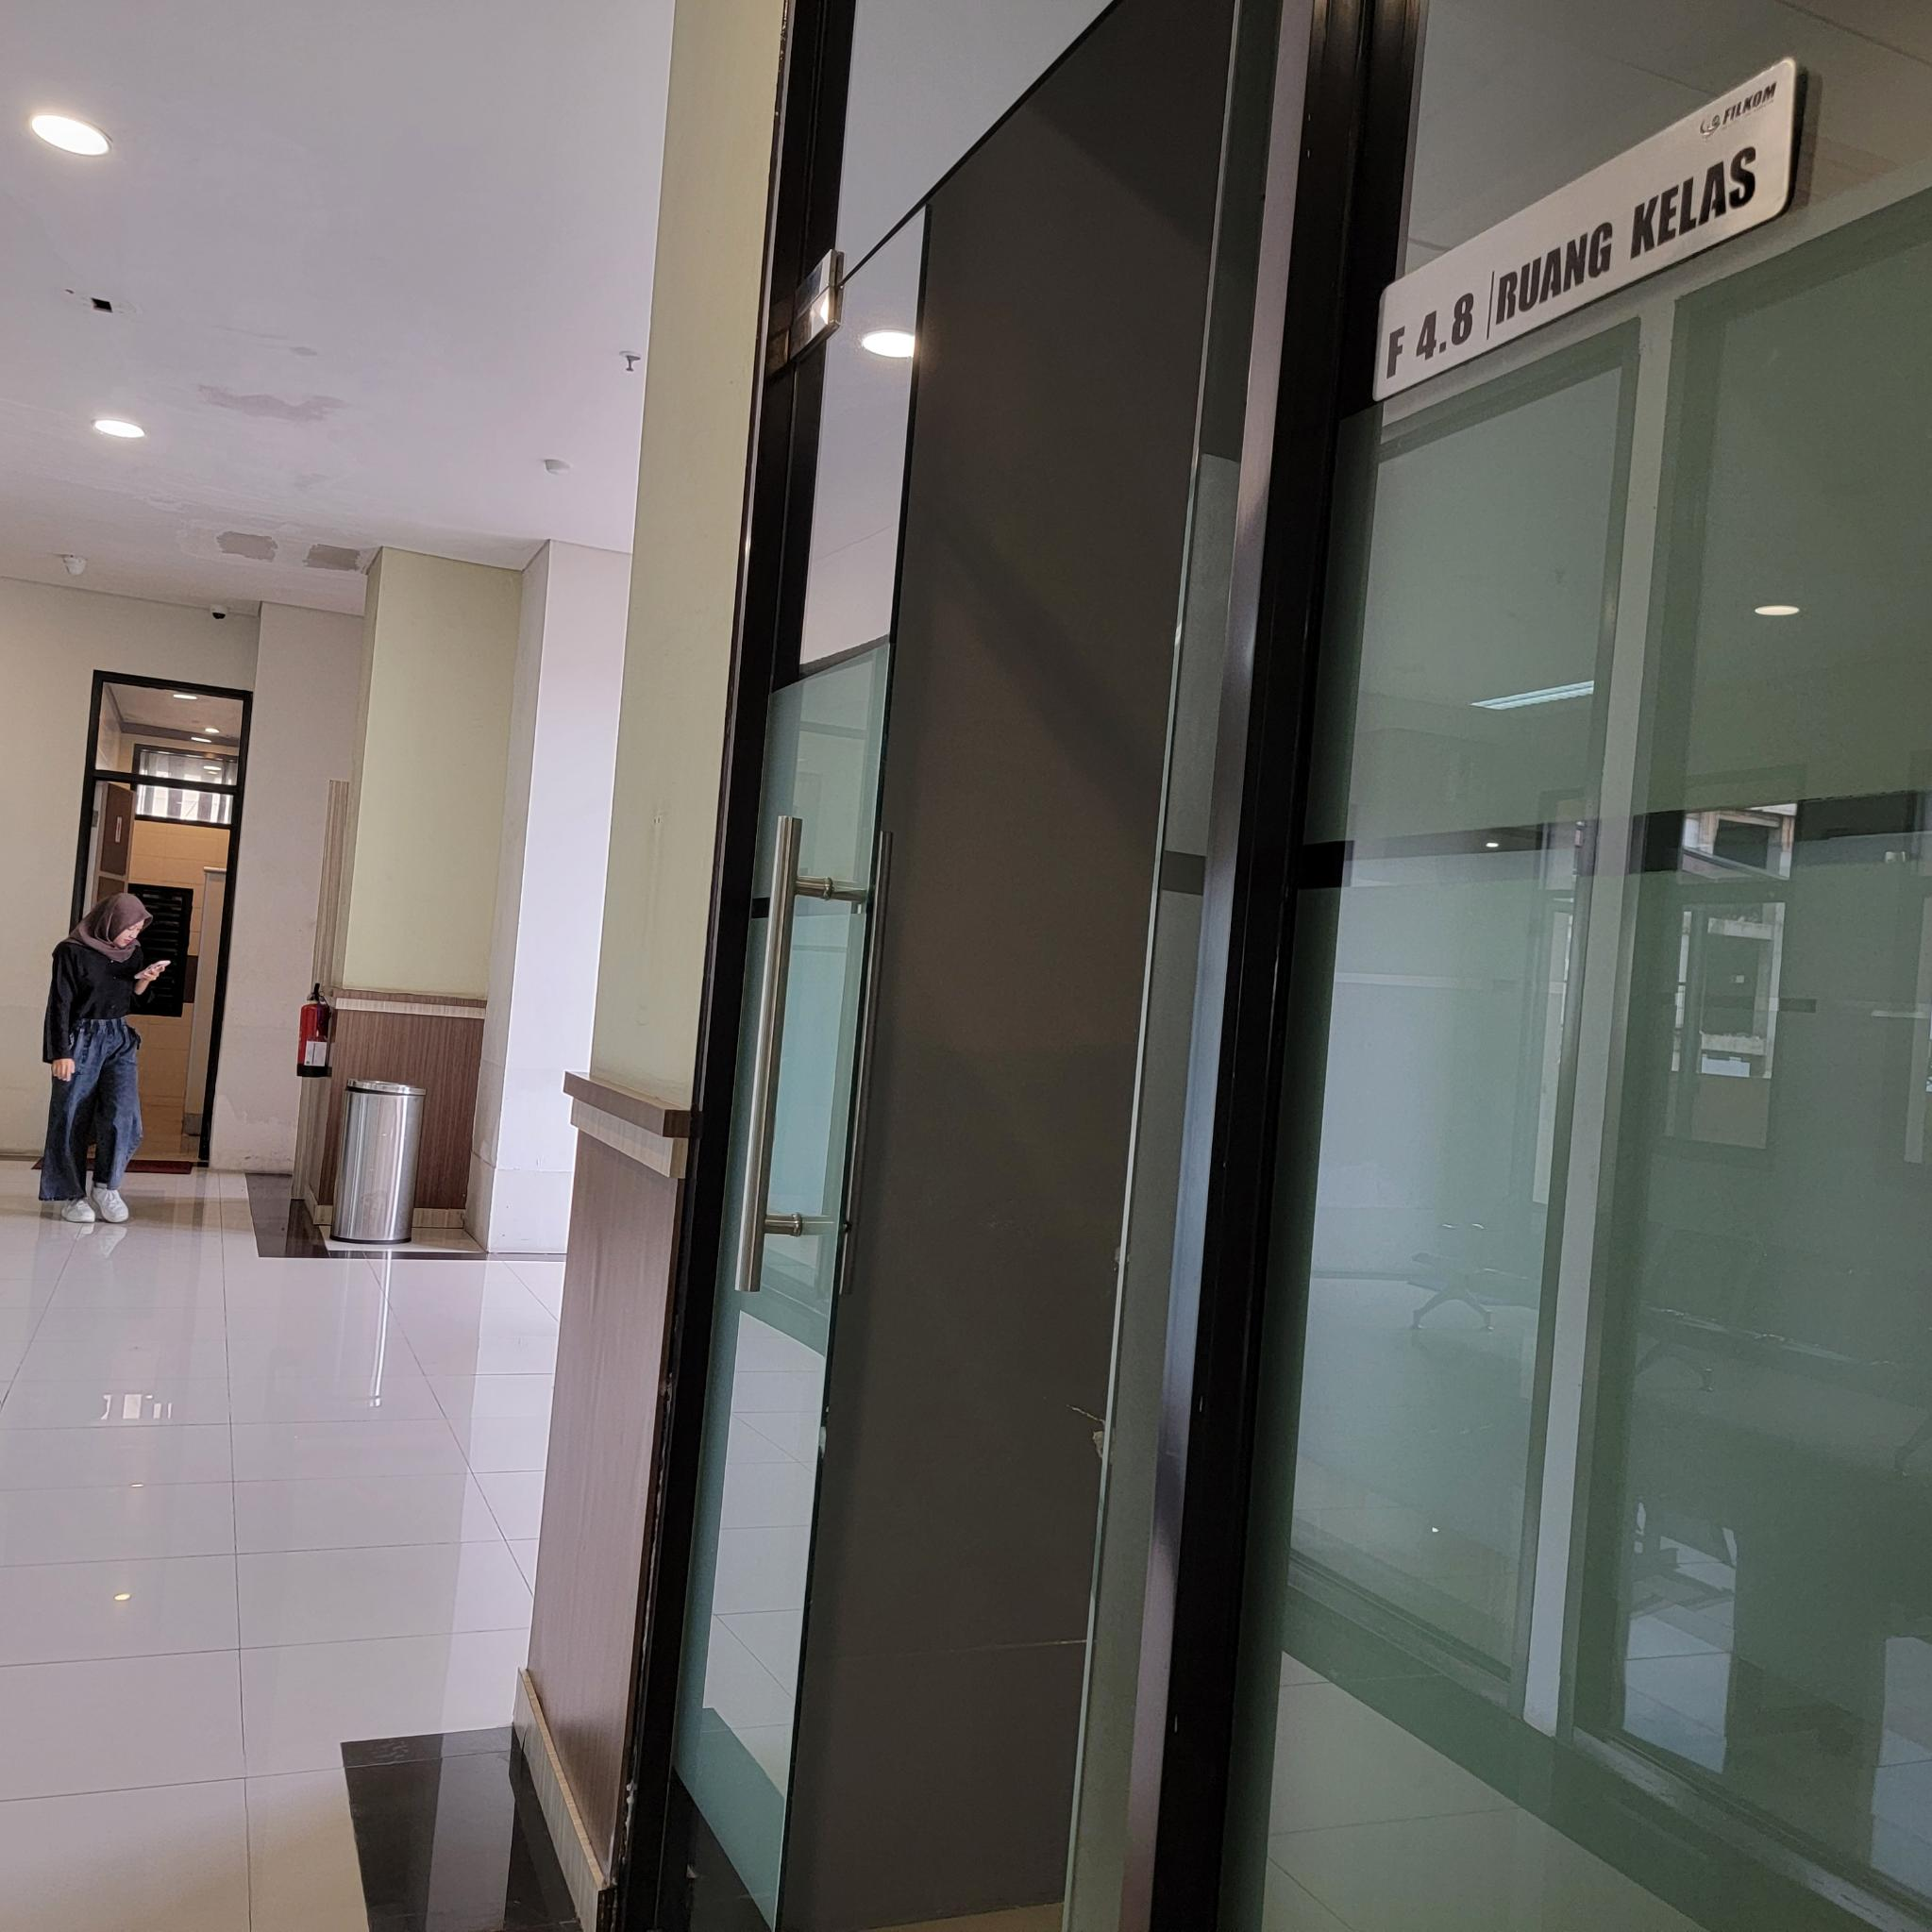plate: (1371, 53, 1801, 403)
